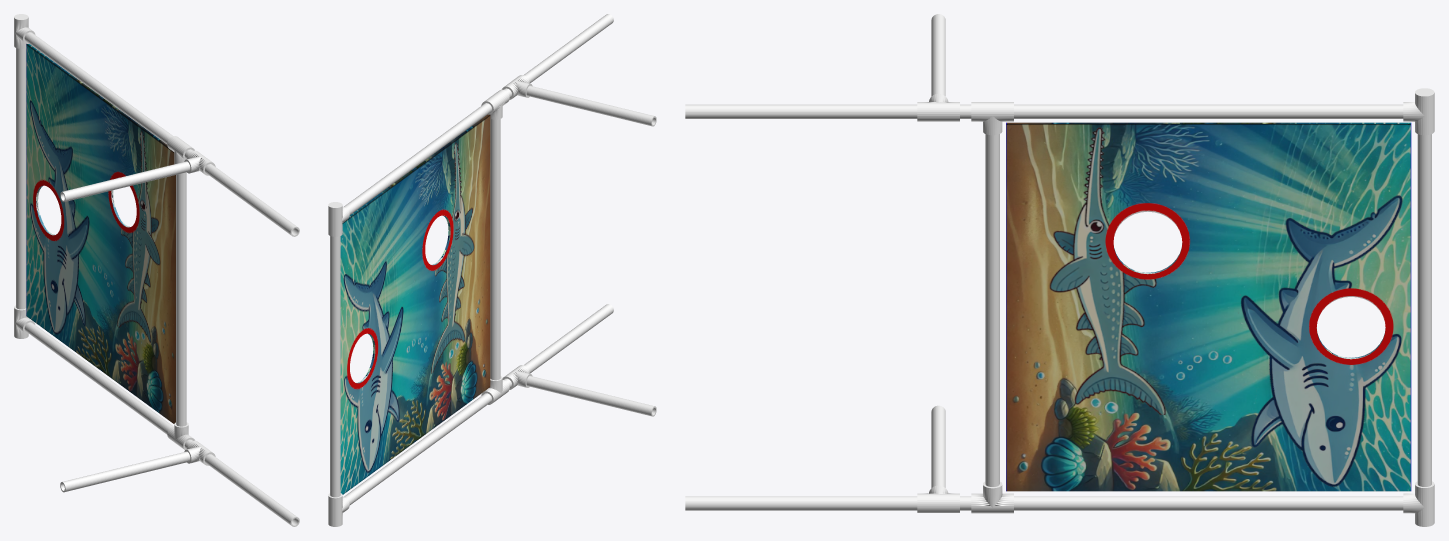
Rendered from torpboard_shark.obj.
3 renders of one model, left to right at view 1: azimuth 30°, elevation 25°; view 2: azimuth 150°, elevation 25°; view 3: azimuth 270°, elevation 25°, orthographic. The views are drawn at different scales.
Visible parts, largest first — view 1: Plane, Cylinder.003, Cylinder, Cylinder.001, Cylinder.002, Cylinder.008, Cylinder.009, Cylinder.006, Cylinder.007, TJoint.003, TJoint.002, TJoint.004 (+3 smaller); view 2: Plane, Cylinder, Cylinder.003, Cylinder.002, Cylinder.001, Cylinder.008, Cylinder.009, Cylinder.006, Cylinder.007, TJoint.003, TJoint.002, TJoint.004 (+3 smaller); view 3: Plane, Cylinder.002, Cylinder.001, Cylinder, Cylinder.003, Cylinder.007, Cylinder.006, Cylinder.008, Cylinder.009, TJoint.003, TJoint.004, TJoint.002 (+3 smaller).
Boxes of the visible parts, <box> form: Plane: <box>26,44,175,423</box>; Cylinder.003: <box>16,48,26,309</box>; Cylinder: <box>176,172,186,426</box>; Cylinder.001: <box>24,32,173,144</box>; Cylinder.002: <box>24,322,173,434</box>; Cylinder.008: <box>60,451,190,492</box>; Cylinder.009: <box>60,161,190,202</box>; Cylinder.006: <box>205,164,299,236</box>; Cylinder.007: <box>204,454,299,526</box>; TJoint.003: <box>14,14,35,48</box>; TJoint.002: <box>14,305,35,338</box>; TJoint.004: <box>167,136,194,163</box>; Plane: <box>340,114,490,494</box>; Cylinder: <box>490,119,500,380</box>; Cylinder.003: <box>330,236,340,497</box>; Cylinder.002: <box>343,393,491,505</box>; Cylinder.001: <box>344,103,491,214</box>; Cylinder.008: <box>526,376,656,416</box>; Cylinder.009: <box>526,85,656,126</box>; Cylinder.006: <box>523,14,613,83</box>; Cylinder.007: <box>524,304,613,373</box>; TJoint.003: <box>328,202,349,236</box>; TJoint.002: <box>328,493,349,526</box>; TJoint.004: <box>481,89,509,119</box>; Plane: <box>1006,122,1411,491</box>; Cylinder.002: <box>1014,496,1403,510</box>; Cylinder.001: <box>1014,104,1403,118</box>; Cylinder: <box>985,134,999,486</box>; Cylinder.003: <box>1417,134,1431,486</box>; Cylinder.007: <box>685,496,917,510</box>; Cylinder.006: <box>685,104,917,118</box>; Cylinder.008: <box>931,405,945,487</box>; Cylinder.009: <box>931,14,945,96</box>; TJoint.003: <box>1403,88,1434,135</box>; TJoint.004: <box>971,102,1013,135</box>; TJoint.002: <box>1403,481,1434,526</box>.
Bounding box in the file's own units: 0.3347 × 0.7035 × 1.11.
